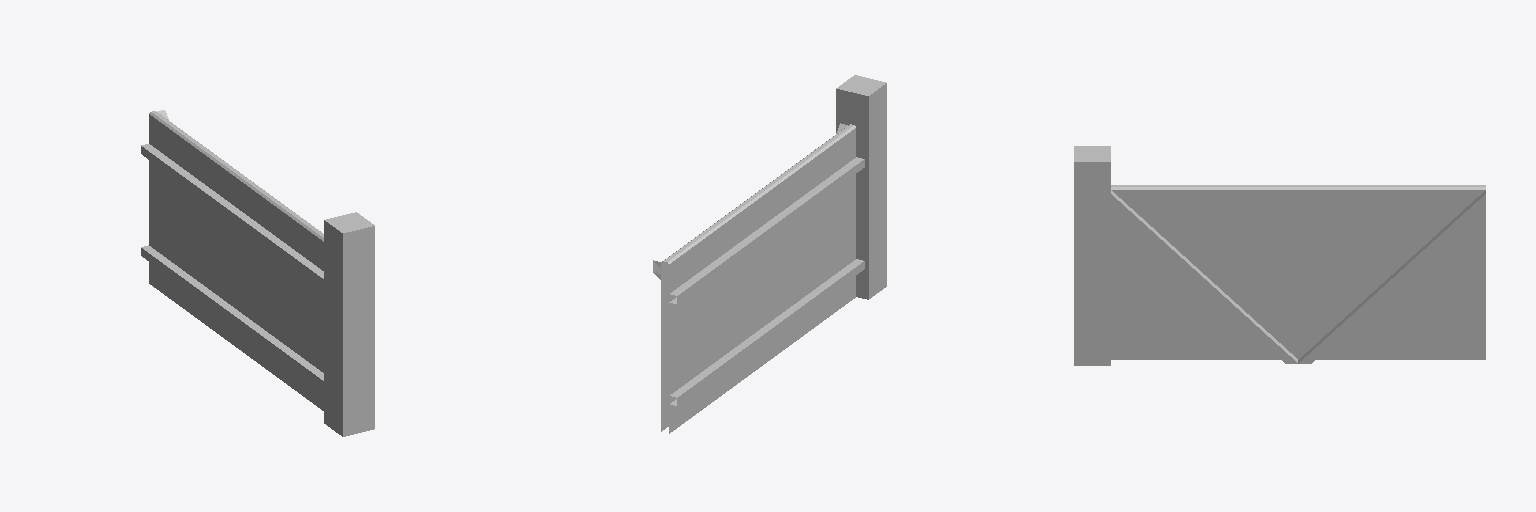
The picture shows the model from 3 angles: view 1: azimuth 30°, elevation 25°; view 2: azimuth 150°, elevation 25°; view 3: azimuth 270°, elevation 25°; orthographic projection.
Parts seen in each view (by area): view 1: MRG; view 2: MRG; view 3: MRG.
Part boxes in pixels (x1,y1,x2,y2): MRG: (141,110,374,436); MRG: (653,75,886,433); MRG: (1074,146,1485,365).
Bounding box in the file's own units: 0.2 × 1.2 × 2.2.